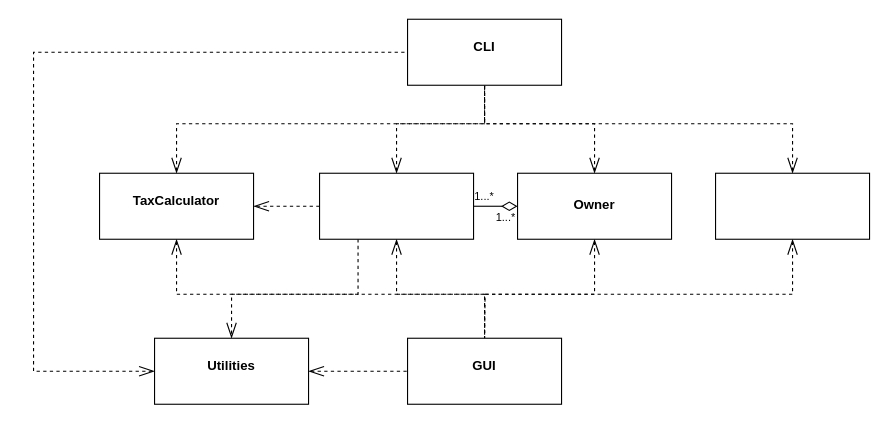
Some shapes in this 889 by 424 pixel diagram are drawn without their labels. The shapes that lost their labels are listed below. From the top down, each one's centre as x and y in pixels, then its label:
At [396,205]: "Property".
At [792,205]: "DepartmentPersonnel".
